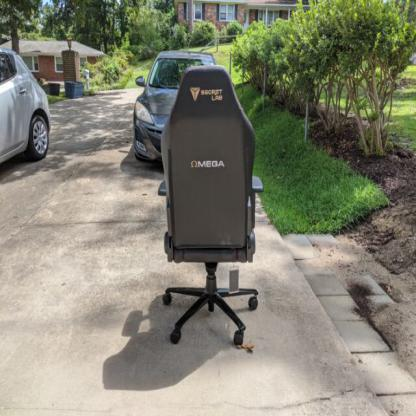chair: (143, 52, 272, 369)
